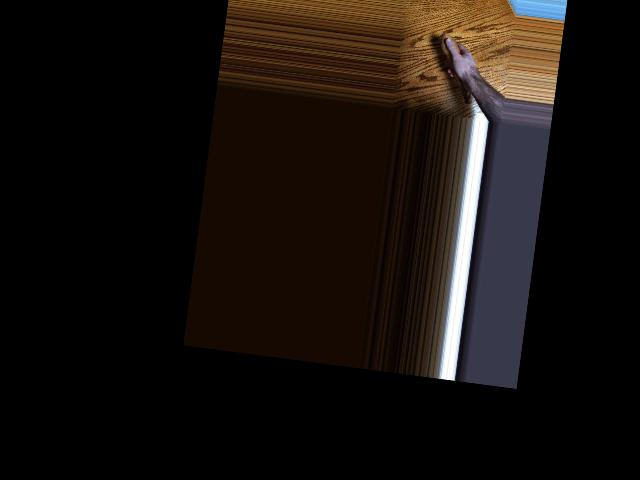sweet_potato: (430, 31, 481, 116)
